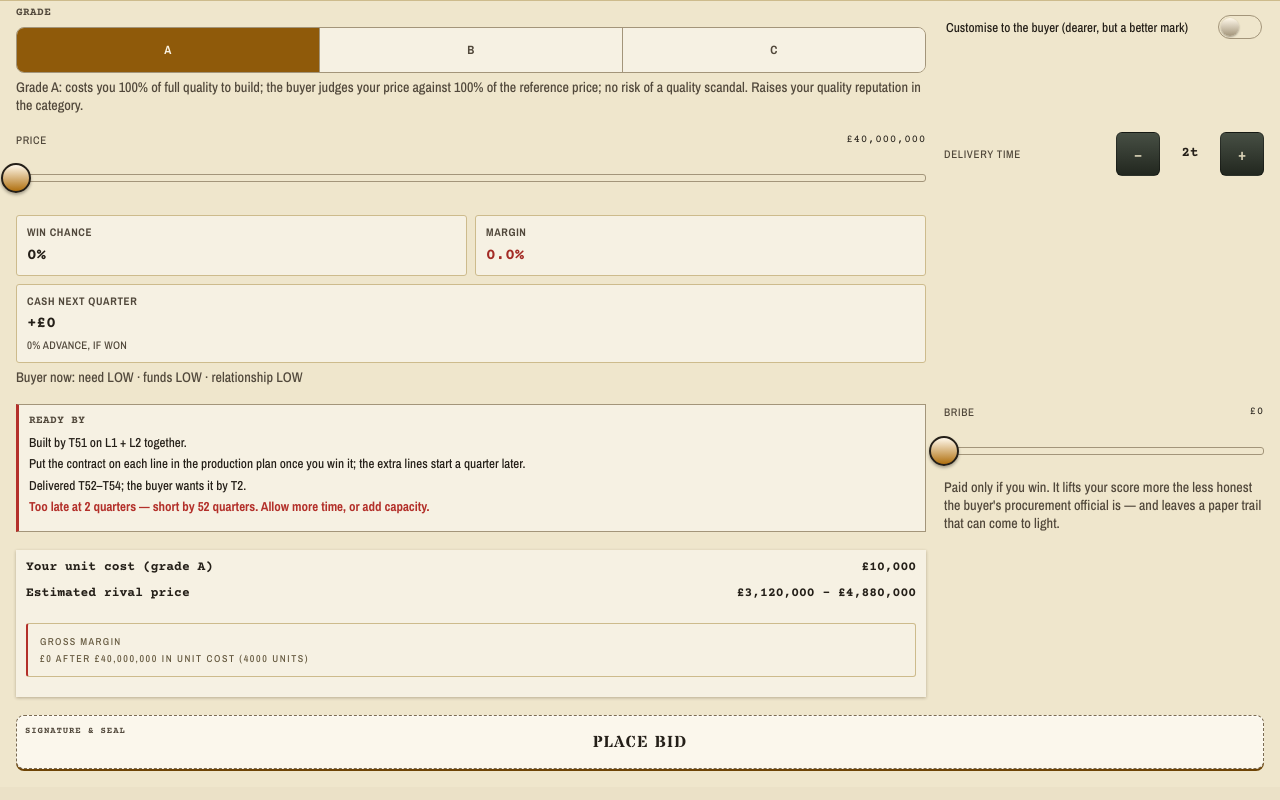
Test: BidForm — "ready by" (P180) › en kort leveranstid som inte hinner varnar med hur många kvartal som saknas — och räknas om när leveranstiden ändras
Click the button named "Increase Delivery time". click: click(1242, 154)
box: [1220, 132, 1264, 176]
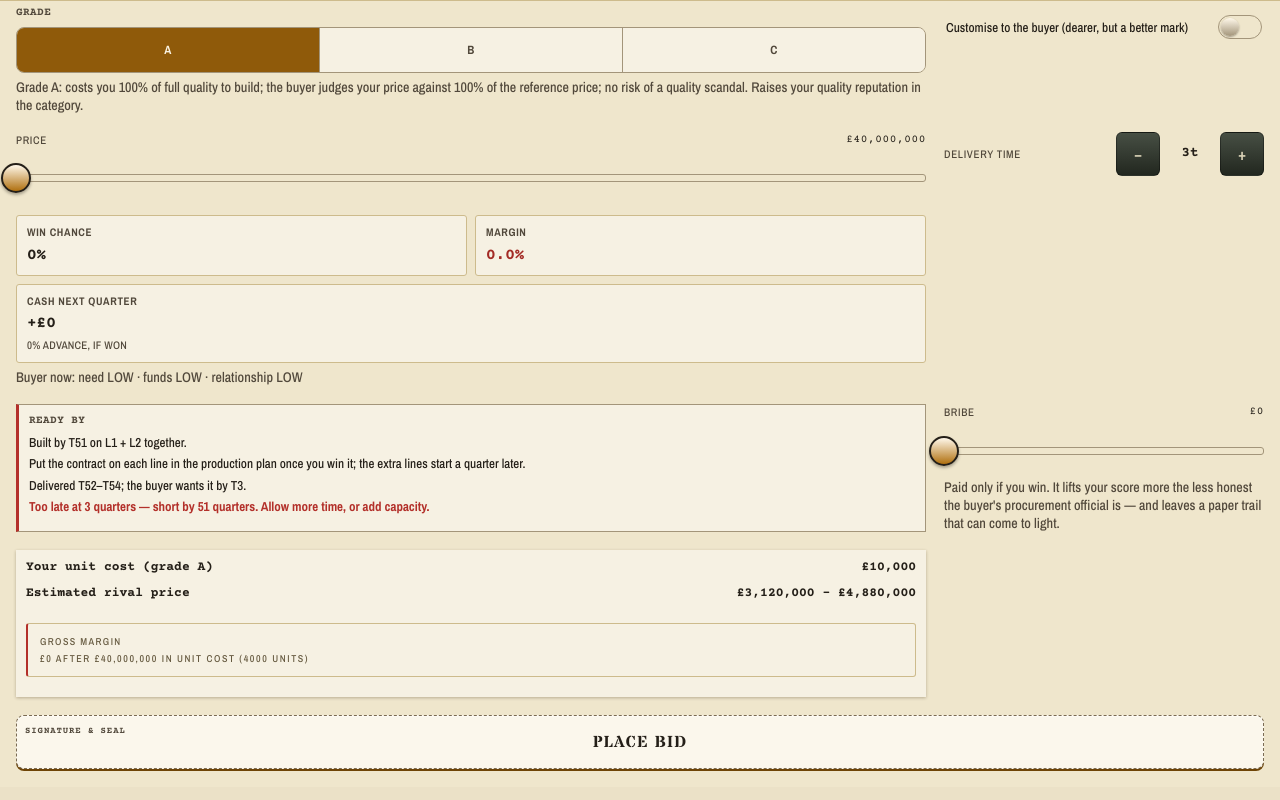
Check: the text with test id "bid-late" shows "Too late at 3 quarters", box [29, 498, 429, 515]
